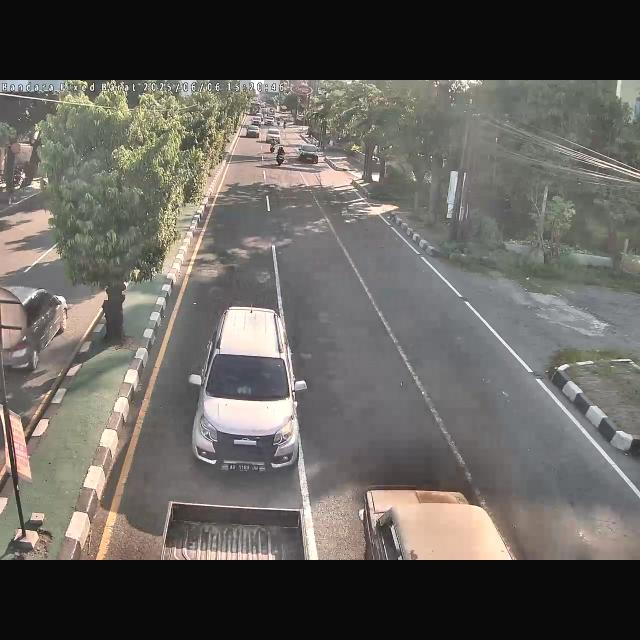Mobil: (184, 296, 310, 478), (352, 482, 524, 560)
